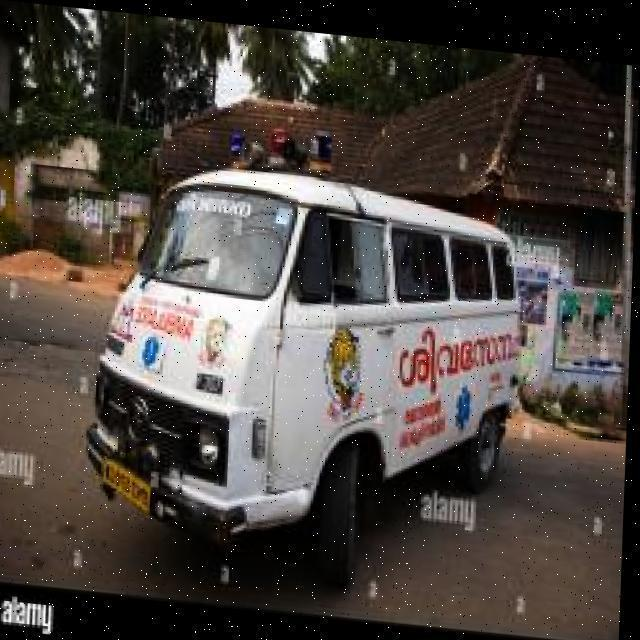Ambulance: (0, 267, 629, 631), (82, 121, 534, 595)
